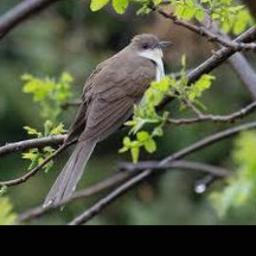Cuckoo: (41, 33, 173, 212)
